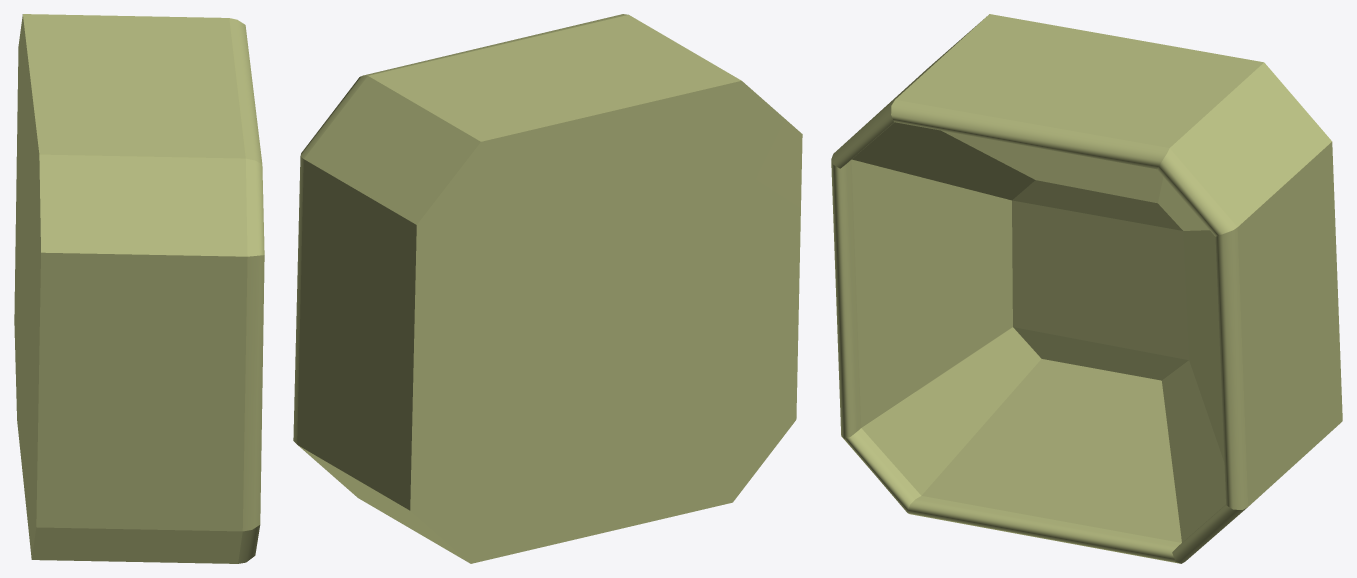
The model's file is BR4_8shapes_Square_Classic_Metal.001 2.glb.
The picture shows the model from 3 angles, left to right: view 1: azimuth 30°, elevation 25°; view 2: azimuth 150°, elevation 25°; view 3: azimuth 270°, elevation 25°; orthographic projection.
Parts seen in each view (by area): view 1: BR4_8shapes_Square_Classic_Metal.001; view 2: BR4_8shapes_Square_Classic_Metal.001; view 3: BR4_8shapes_Square_Classic_Metal.001.
Boxes of the visible parts, bbox=[...] form: BR4_8shapes_Square_Classic_Metal.001: bbox=[14, 14, 264, 563]; BR4_8shapes_Square_Classic_Metal.001: bbox=[293, 14, 802, 563]; BR4_8shapes_Square_Classic_Metal.001: bbox=[831, 14, 1342, 563].
Size of the model in its own units: 0.4484 by 0.5264 by 0.5672.
